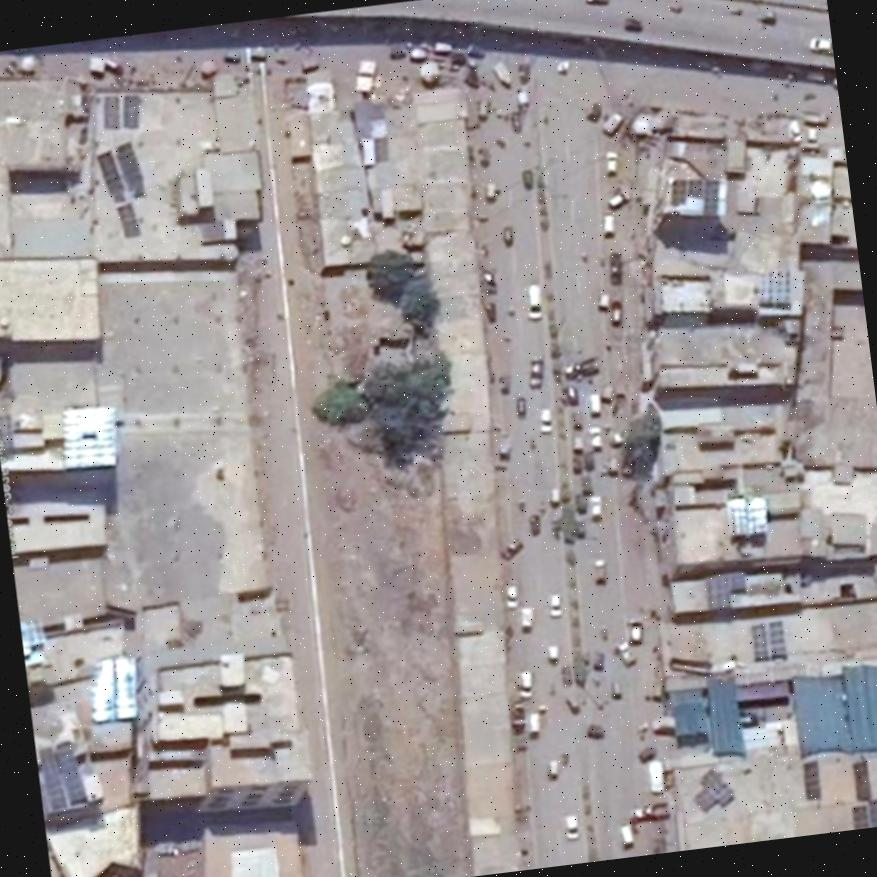Solarpanel: (92, 659, 137, 725), (37, 744, 84, 807), (65, 405, 114, 465), (97, 143, 142, 194), (672, 179, 720, 213), (728, 497, 767, 535), (752, 622, 785, 662), (105, 95, 138, 128), (757, 273, 790, 304), (799, 759, 820, 800), (852, 800, 877, 827), (854, 760, 871, 798)
